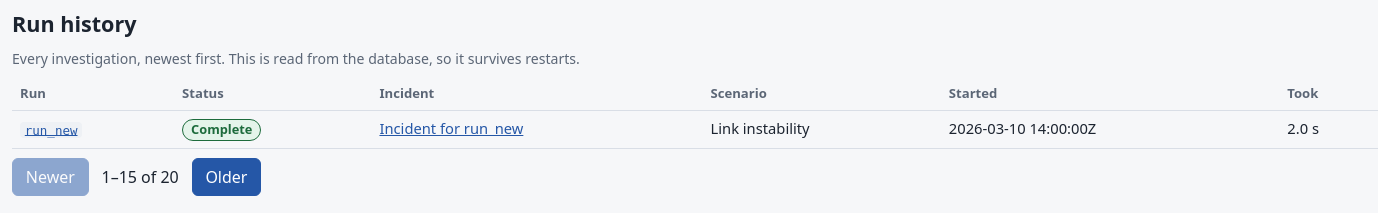
Test: HistoryPage › pages through older runs
The width and height of the screenshot is (1378, 213).
Expected: the link "run_new" is shown, left=20, top=118, right=82, bottom=138
What coordinates should you click on to do the following:
click the button "Older"
I would click on:
 (226, 177)
Its box is left=192, top=158, right=261, bottom=196.
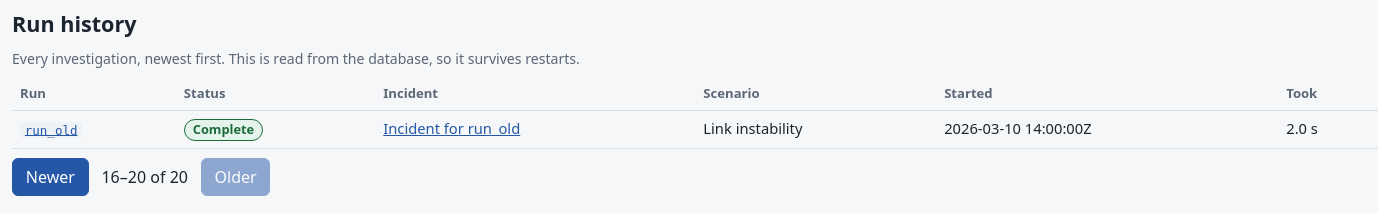
Expected: the link "run_old" is shown, left=20, top=118, right=82, bottom=138
